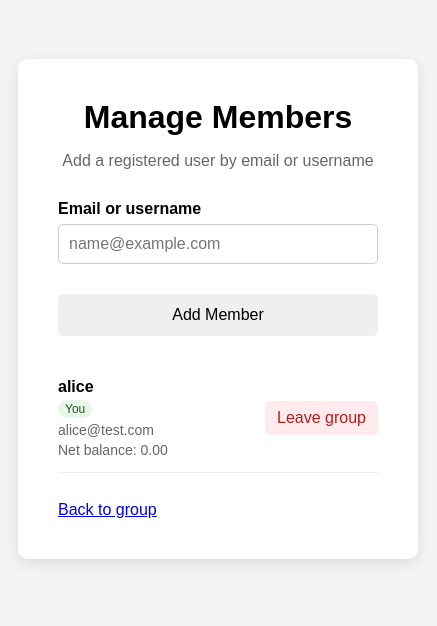
Test: AC1: adds a registered user by email
Expected: the text "alice" is shown, [58,378,94,395]
Type "bob@test.com" into the field labelled "Email or username". click: (218, 244)
box: [58,224,378,264]
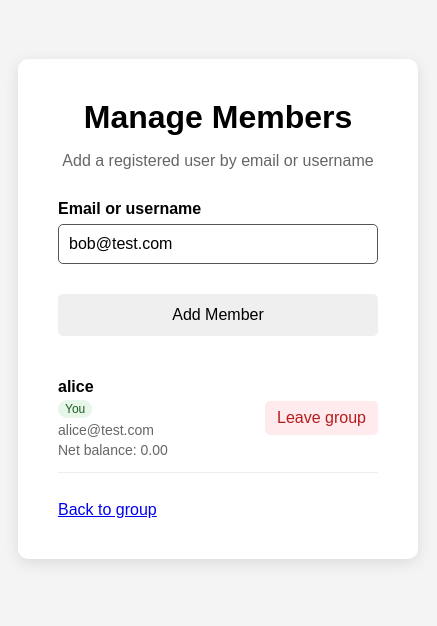
Click the button "Add Member". click: (218, 315)
box: [58,294,378,336]
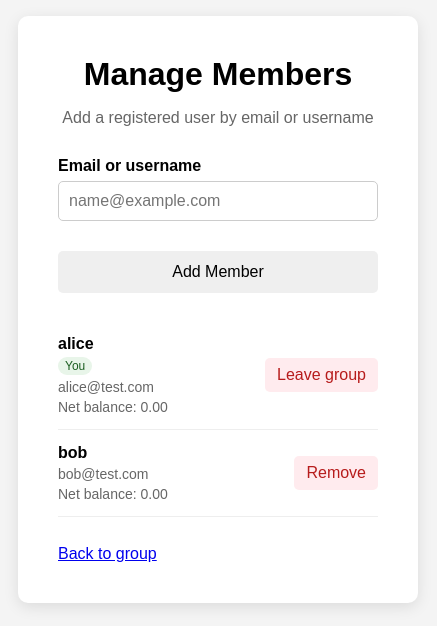
Now the text "bob" is shown, box [58,444,87,460]
